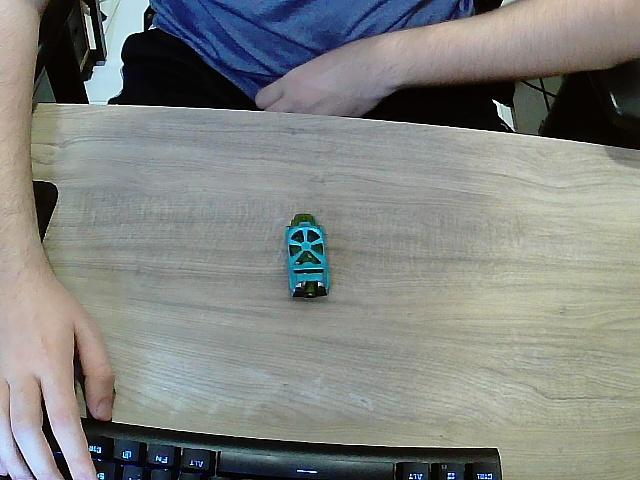Carro: (286, 214, 332, 300)
